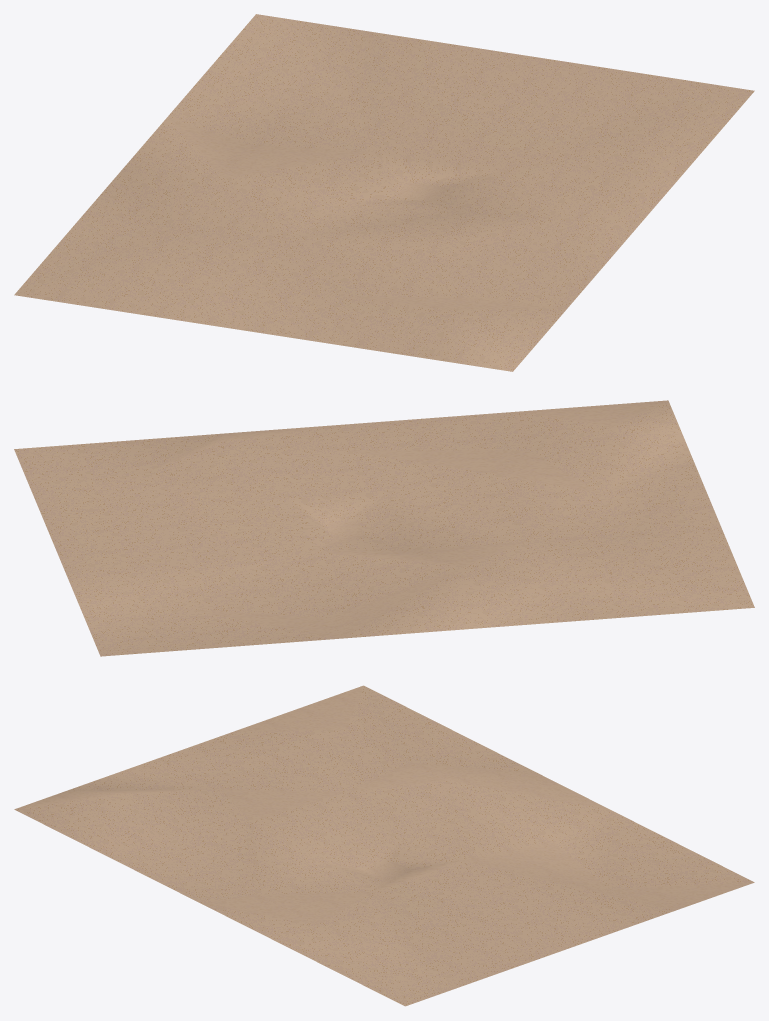
Rendered from kd_stage_135ebf_0_14_bounded.glb.
3 views of the same model, one above another, from view 1: azimuth 30°, elevation 25°; view 2: azimuth 150°, elevation 25°; view 3: azimuth 270°, elevation 25° (orthographic). The views are drawn at different scales.
Parts seen in each view (by area): view 1: kd_stage_135ebf_0_14_bounded; view 2: kd_stage_135ebf_0_14_bounded; view 3: kd_stage_135ebf_0_14_bounded.
Boxes of the visible parts, <box> form: kd_stage_135ebf_0_14_bounded: <box>14,14,754,371</box>; kd_stage_135ebf_0_14_bounded: <box>14,400,754,656</box>; kd_stage_135ebf_0_14_bounded: <box>14,685,754,1006</box>.
Bounding box in the file's own units: 2.5 × 0.0957 × 2.43.
1 material, 1 textured.
